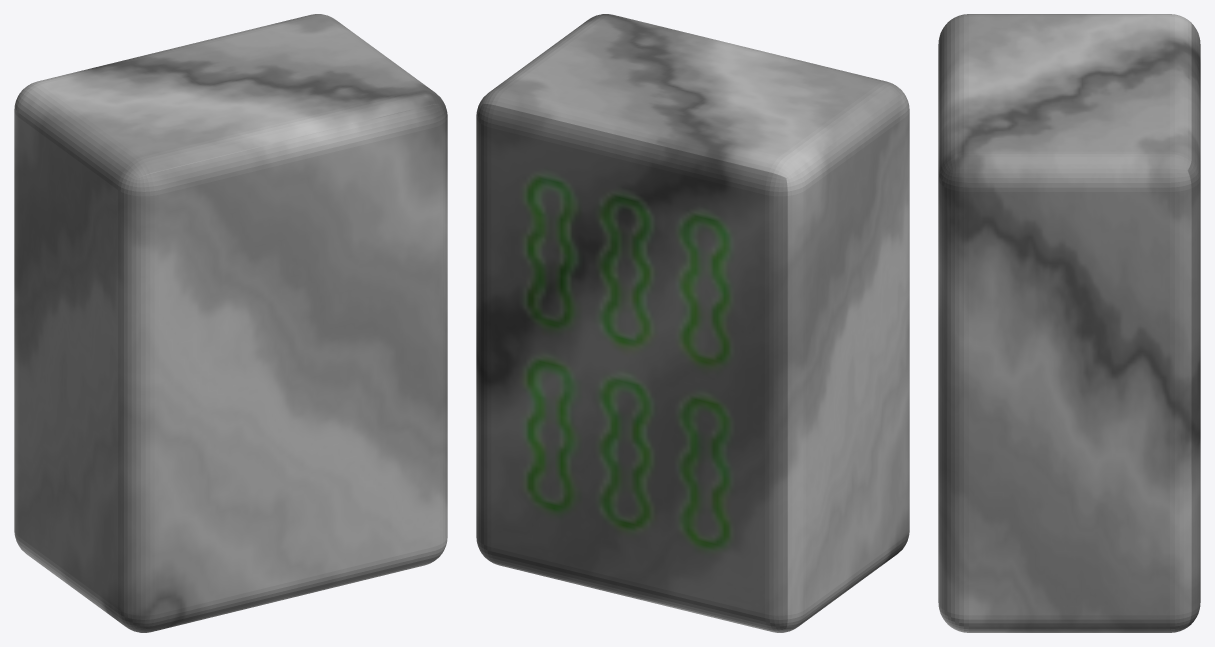
File: tiao6.fbx
The picture shows the model from 3 angles, left to right: view 1: azimuth 30°, elevation 25°; view 2: azimuth 150°, elevation 25°; view 3: azimuth 270°, elevation 25°; orthographic projection.
Visible parts, largest first — view 1: tiao6; view 2: tiao6; view 3: tiao6.
Part boxes in pixels (x1,y1,x2,y2): tiao6: (14, 14, 447, 632); tiao6: (476, 14, 909, 632); tiao6: (938, 14, 1200, 632).
Bounding box in the file's own units: 100 × 139 × 69.
Materials: 1 (1 with a texture image).
